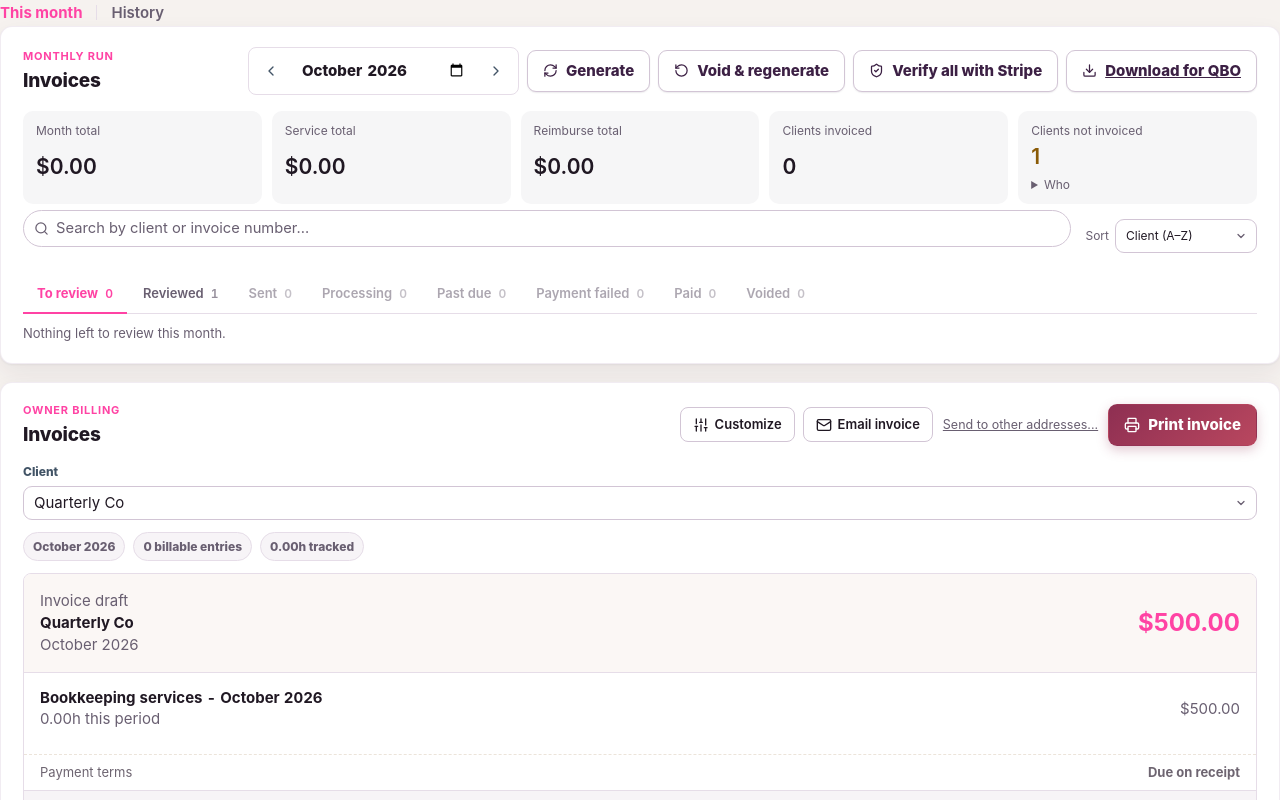
Test: Email invoice and the billing-period hold › asks with the server sentence and a Send anyway instead of showing an error
Click the button "Email invoice".
click(868, 425)  # box [803,407,933,442]
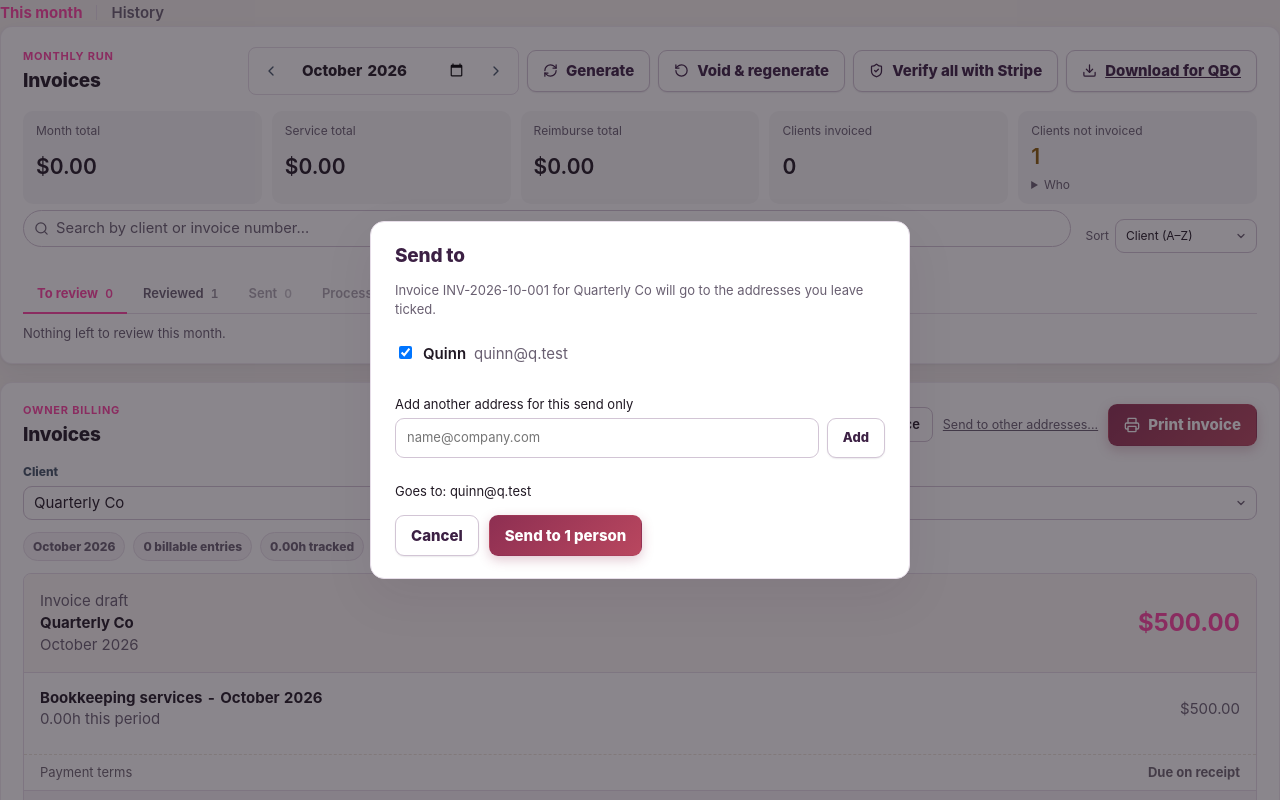
Click the button "Send to 1 person".
click(566, 536)  # box [489,515,642,556]
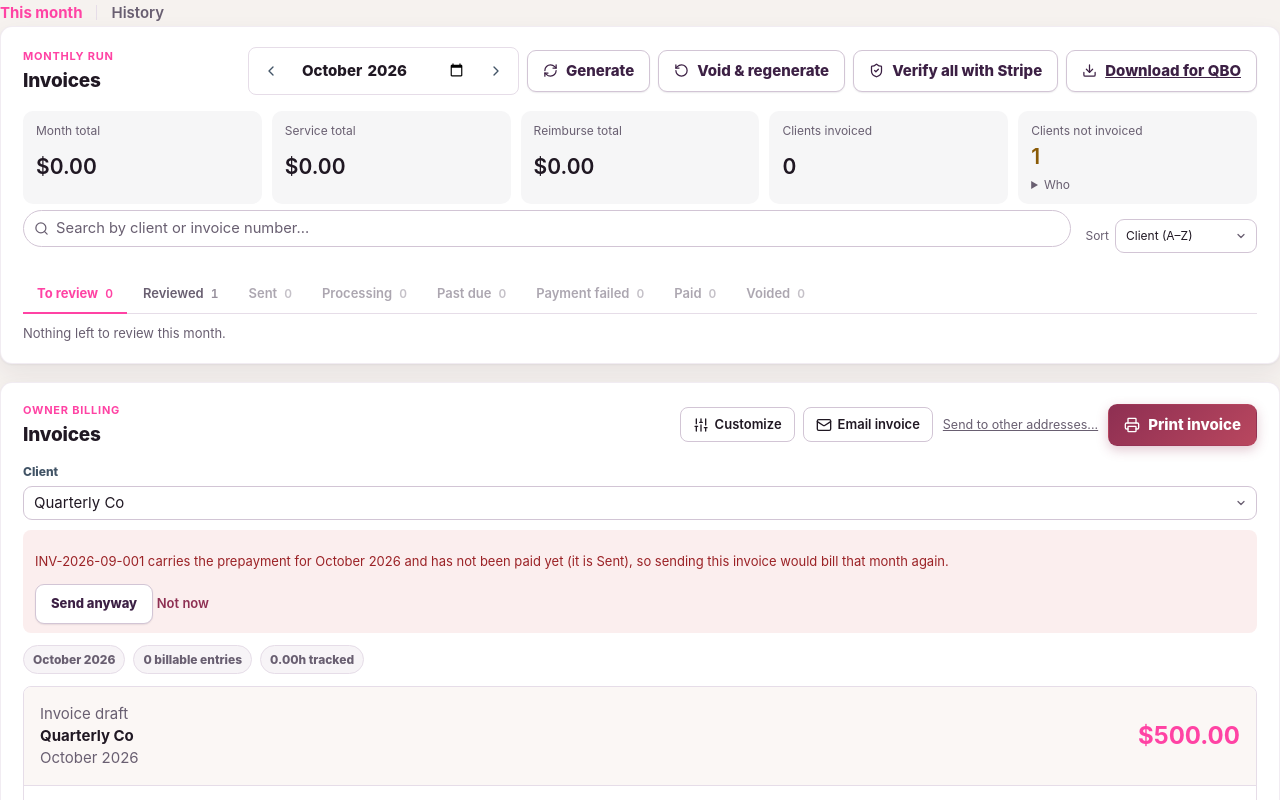
Expected: the text "INV-2026-09-001 carries the prepayment for October 2026 and has not been paid yet (it is Sent), so sending this invoice " is shown, [35,553,949,569]
Expected: the button "Send anyway" is enabled, [35,584,153,624]
